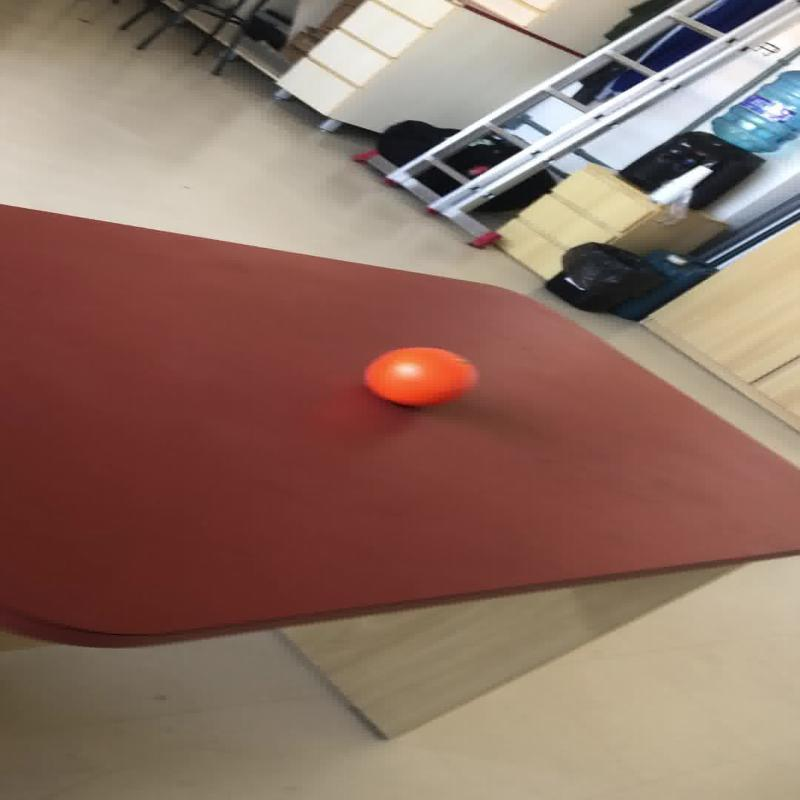orange: (361, 345, 478, 406)
